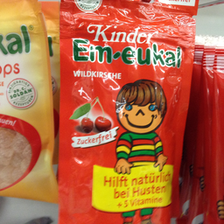candy: (59, 2, 195, 220)
